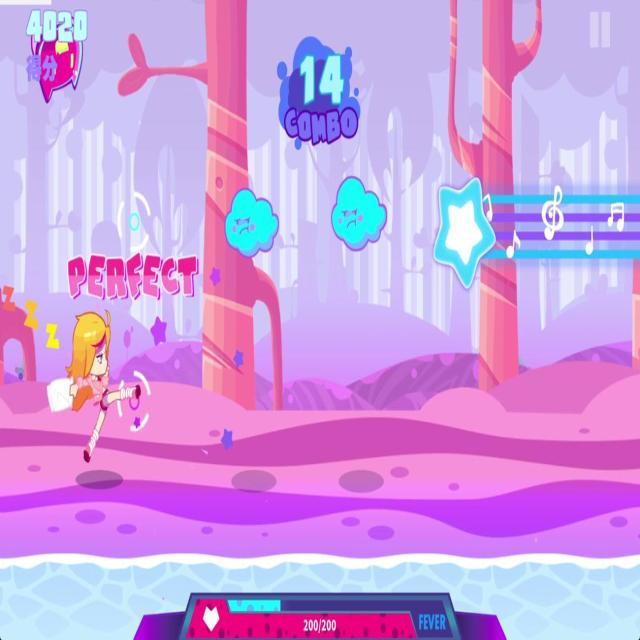hold: (431, 171, 640, 289)
mao: (29, 10, 87, 104)
yun: (330, 174, 392, 256), (222, 181, 282, 262)
